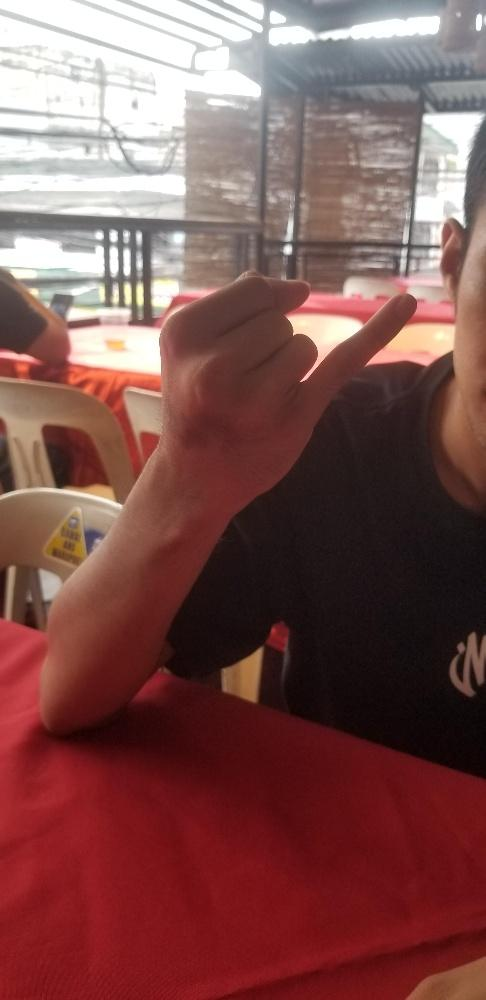j: (153, 267, 420, 516)
